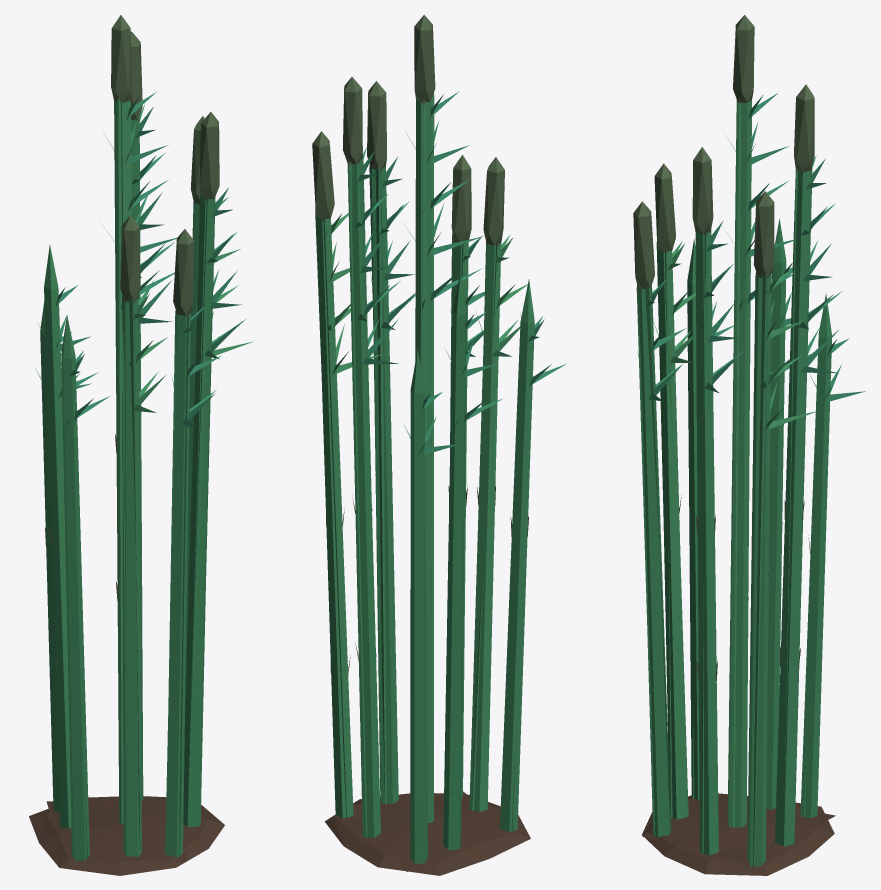
File: pf_horsetail.glb
3 views of the same model, side by side, from view 1: azimuth 30°, elevation 25°; view 2: azimuth 150°, elevation 25°; view 3: azimuth 270°, elevation 25° (orthographic).
Visible parts, largest first — view 1: body_nl, body__far; view 2: body_nl, body__far; view 3: body_nl, body__far.
Boxes of the visible parts, x1,y1,x2,y2 form: body_nl: (29,15,242,875); body__far: (45,95,252,862); body_nl: (312,15,566,875); body__far: (315,93,528,871); body_nl: (633,15,865,875); body__far: (636,100,842,867).
Bounding box in the file's own units: 3 × 10.01 × 3.
